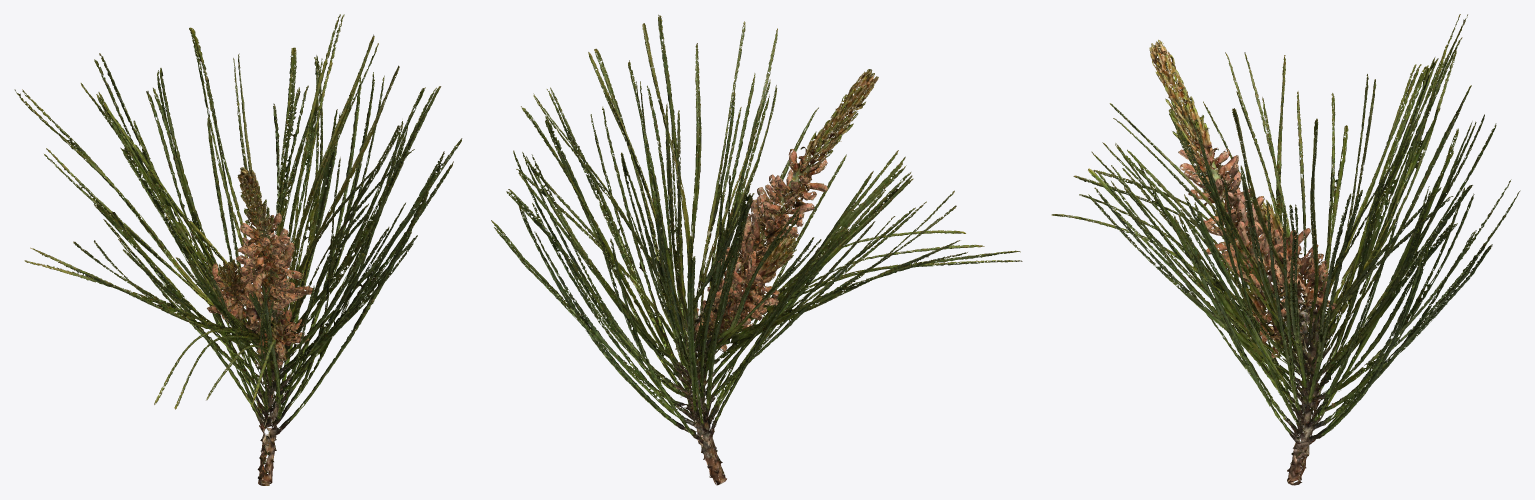
File: pine-touch.glb
The picture shows the model from 3 angles, left to right: view 1: azimuth 30°, elevation 25°; view 2: azimuth 150°, elevation 25°; view 3: azimuth 270°, elevation 25°; orthographic projection. The views are drawn at different scales.
Parts seen in each view (by area): view 1: Object_14, Object_10, Object_6; view 2: Object_14, Object_10, Object_6; view 3: Object_14, Object_10, Object_6.
Boxes of the visible parts, bbox=[...] form: Object_14: bbox=[14, 14, 461, 484]; Object_10: bbox=[20, 18, 461, 485]; Object_6: bbox=[17, 18, 461, 485]; Object_14: bbox=[492, 14, 1022, 479]; Object_10: bbox=[491, 15, 1019, 485]; Object_6: bbox=[491, 15, 1017, 484]; Object_14: bbox=[1051, 14, 1516, 482]; Object_10: bbox=[1054, 19, 1519, 485]; Object_6: bbox=[1060, 17, 1512, 485].
Size of the model in its own units: 1 by 0.9493 by 0.9411.
Materials: 3 (3 with a texture image).
